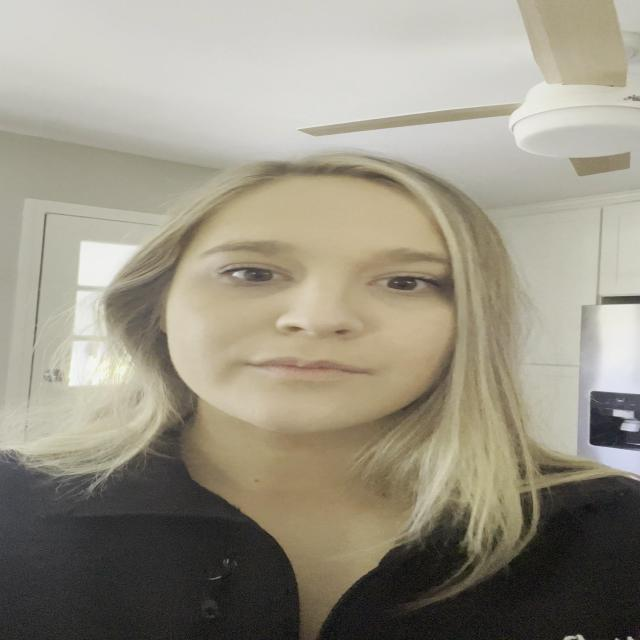no-helmet: (138, 172, 496, 464)
